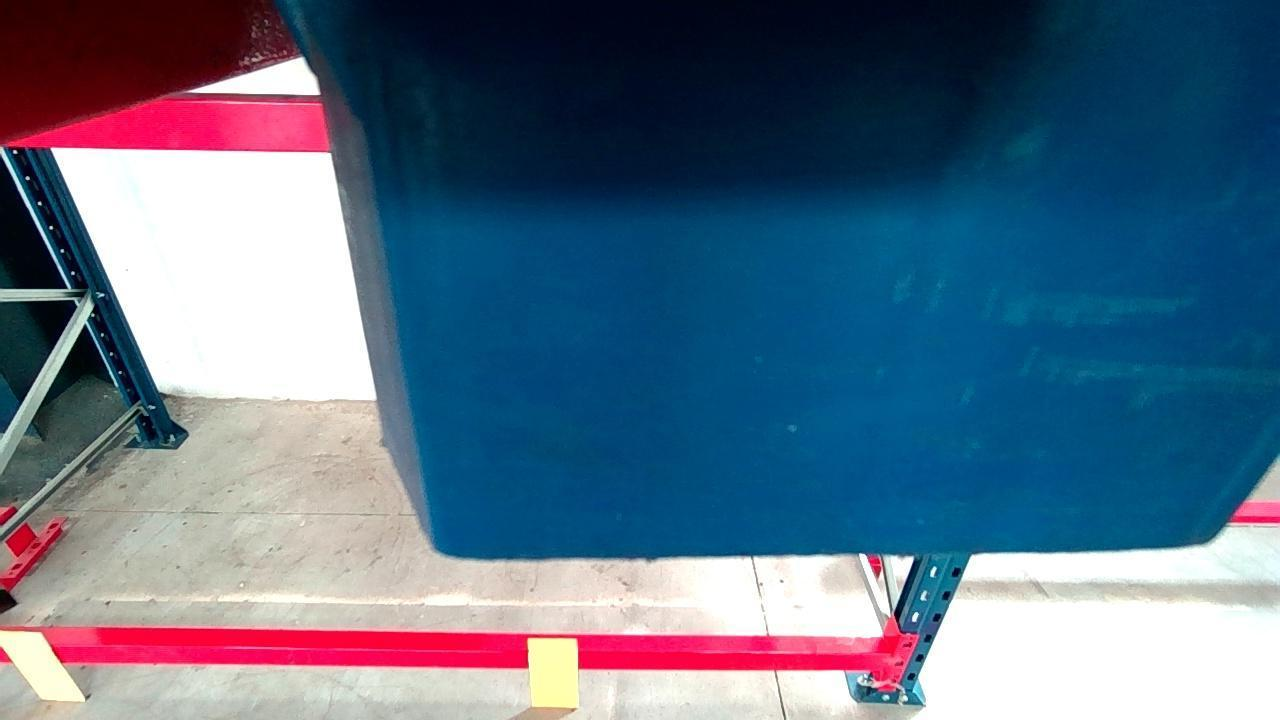h_rack: (0, 646, 905, 676), (8, 96, 331, 151)
orange_strip: (0, 629, 78, 700), (527, 637, 578, 709)
